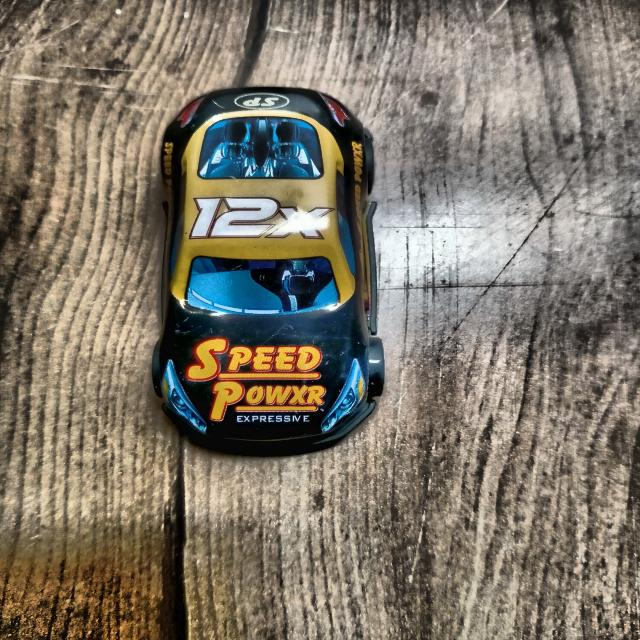Car: (153, 88, 384, 451)
